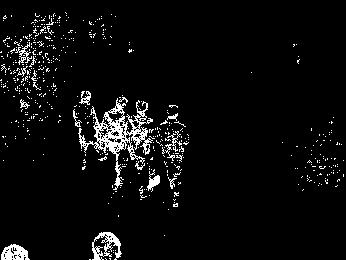person: (158, 103, 189, 210), (129, 97, 162, 195), (101, 94, 132, 194), (74, 89, 102, 172)
